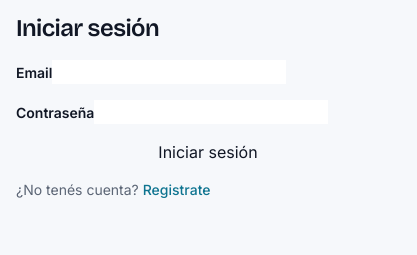
it: LoginPage › shows the backend error message when login fails
Type "a@b.com" into the field labelled "Email" at x=170, y=72, box [52, 60, 286, 84]
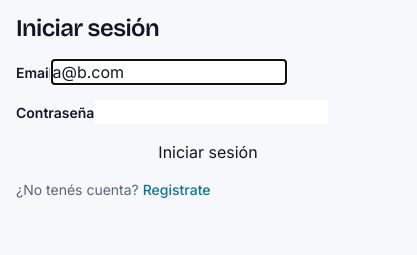
Type "wrong" into the password field labelled "Contraseña" at x=211, y=112, box [94, 100, 328, 124]
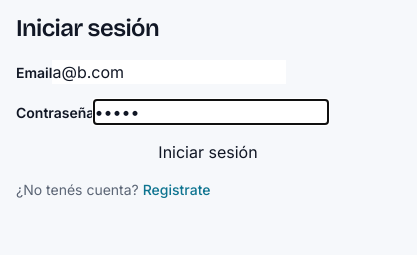
Click the button "Iniciar sesión" at x=208, y=152, box [16, 140, 400, 164]
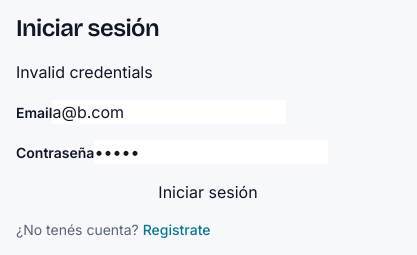
Now the message reads "Invalid credentials", box [16, 62, 153, 82]
